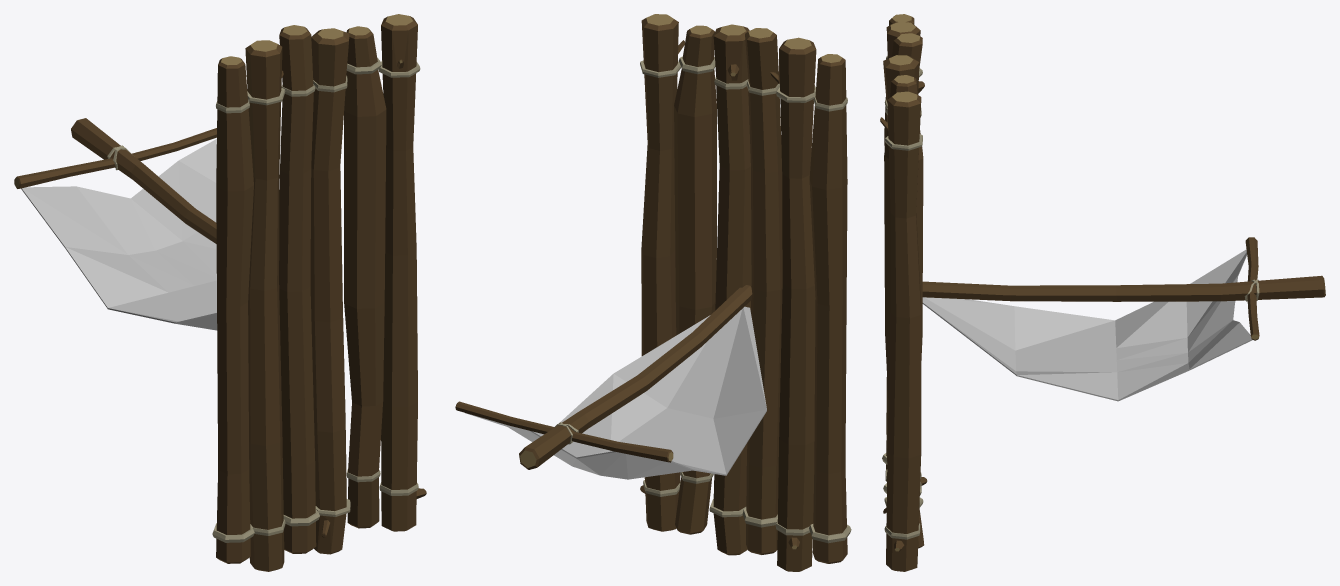
File: boat.fbx
3 renders of one model, left to right at view 1: azimuth 30°, elevation 25°; view 2: azimuth 150°, elevation 25°; view 3: azimuth 270°, elevation 25°, orthographic. The views are drawn at different scales.
Visible parts, largest first — view 1: Цилиндр.001; view 2: Цилиндр.001; view 3: Цилиндр.001.
Boxes of the visible parts, box(x1,y1,x2,y2) form: Цилиндр.001: box(14, 14, 426, 571); Цилиндр.001: box(455, 14, 851, 571); Цилиндр.001: box(880, 14, 1325, 571).
Bounding box in the file's own units: 2.76 × 6.32 × 5.2.
